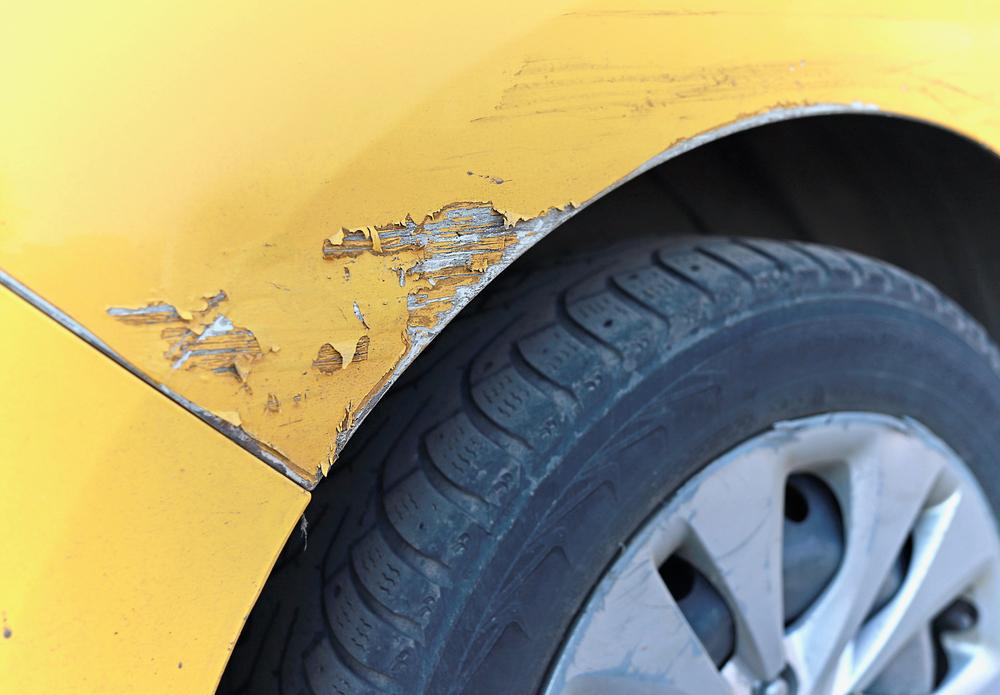scratch: (68, 0, 915, 487)
